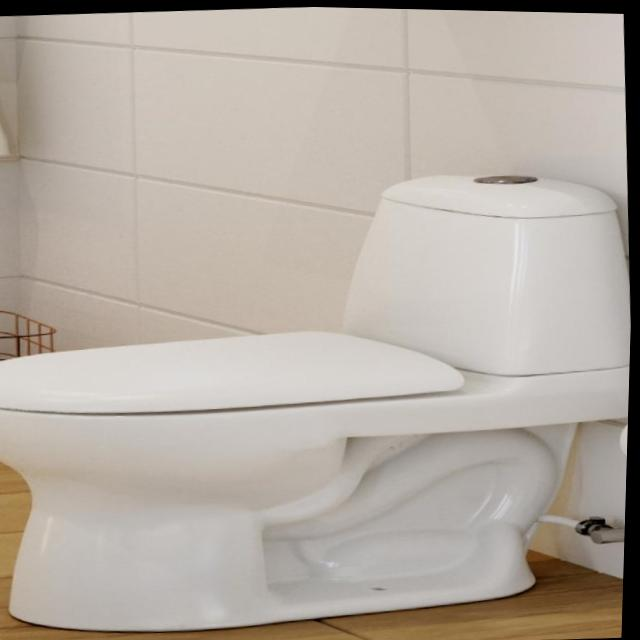toilet: (0, 140, 637, 640)
